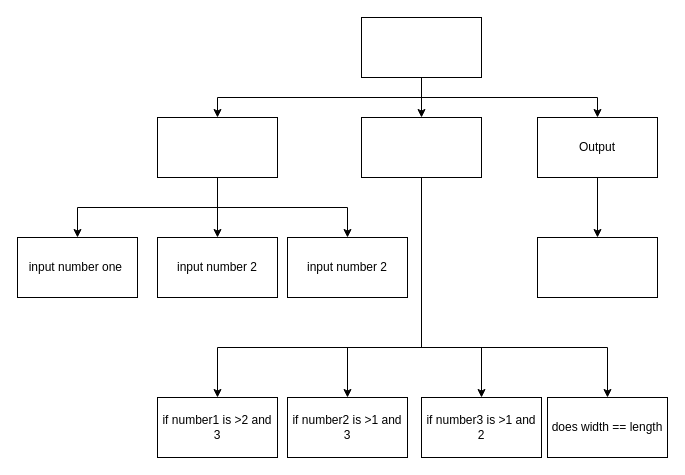
This 685x475 diagram has some shape labels left out. Here are the shapes that lost their labels. From the top down, the box of each, then its label:
(360, 16, 482, 78): the greatest number
(156, 116, 278, 178): Input
(360, 116, 482, 178): Process
(536, 236, 658, 298): output answer
